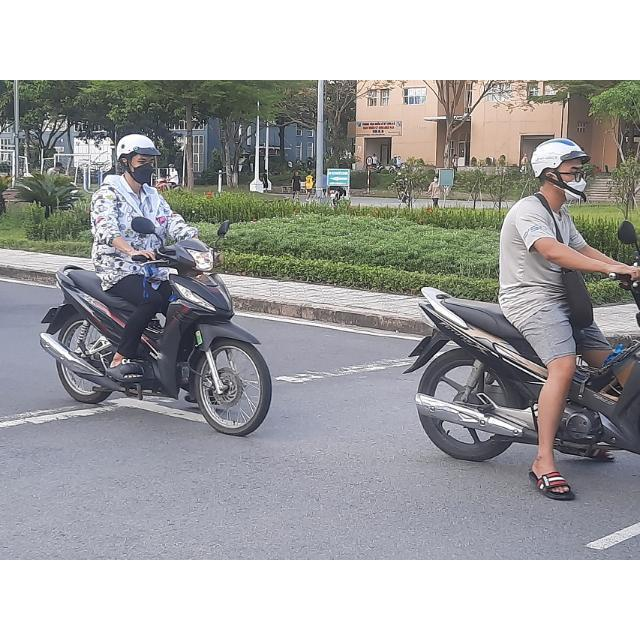Helmet: (526, 134, 592, 206), (111, 132, 162, 188)
